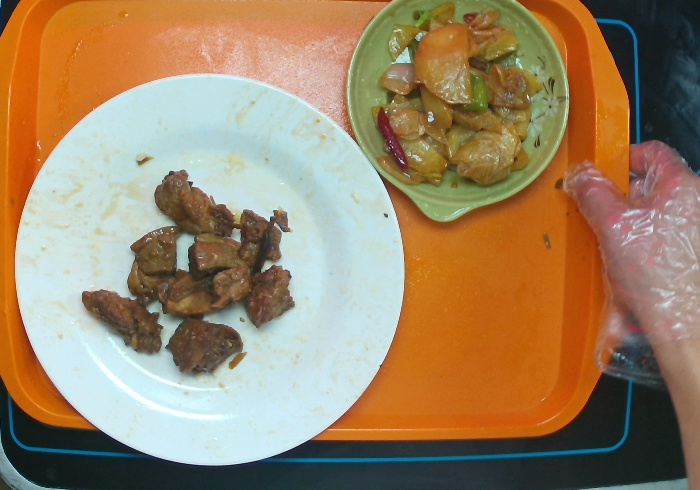NLDX-Da_Yuan_Pan: (13, 71, 408, 468)
NLDX-Lv_Hua_Shuang_Er_Die: (344, 1, 572, 222)
